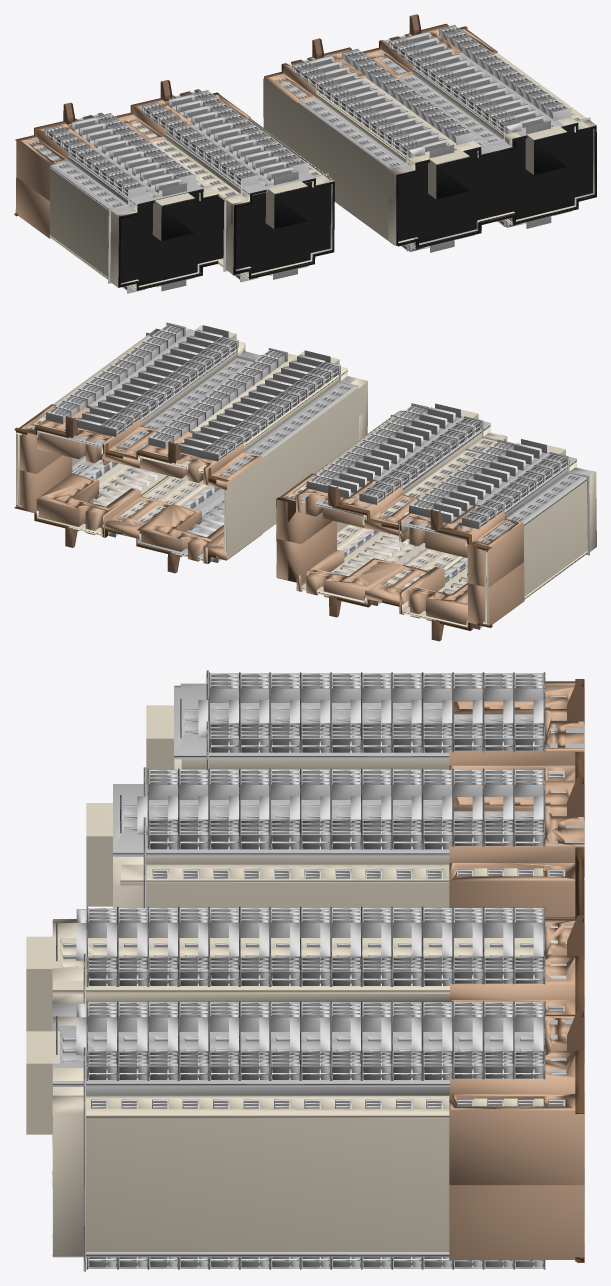
File: mnogohome.obj
3 views of the same model, one above another, from view 1: azimuth 30°, elevation 25°; view 2: azimuth 150°, elevation 25°; view 3: azimuth 270°, elevation 25° (orthographic). The views are drawn at different scales.
Bounding box in the file's own units: 5171 × 1396 × 2765.
